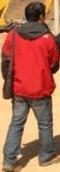boots: (39, 153, 59, 166), (2, 161, 21, 172)
